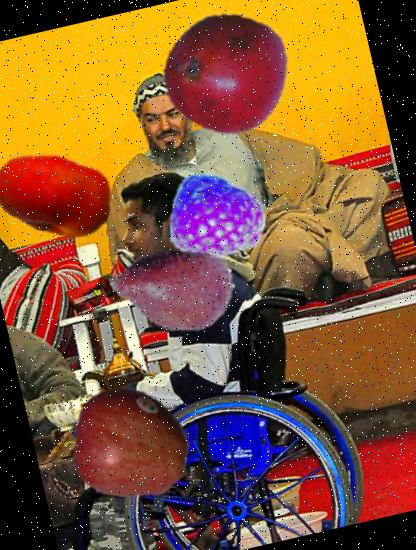Apple: (57, 370, 202, 515)
Nectarine: (0, 122, 125, 265)
Pomegranate: (149, 0, 299, 147)
Raspberry: (156, 162, 276, 282)
Salak: (97, 215, 247, 365)
